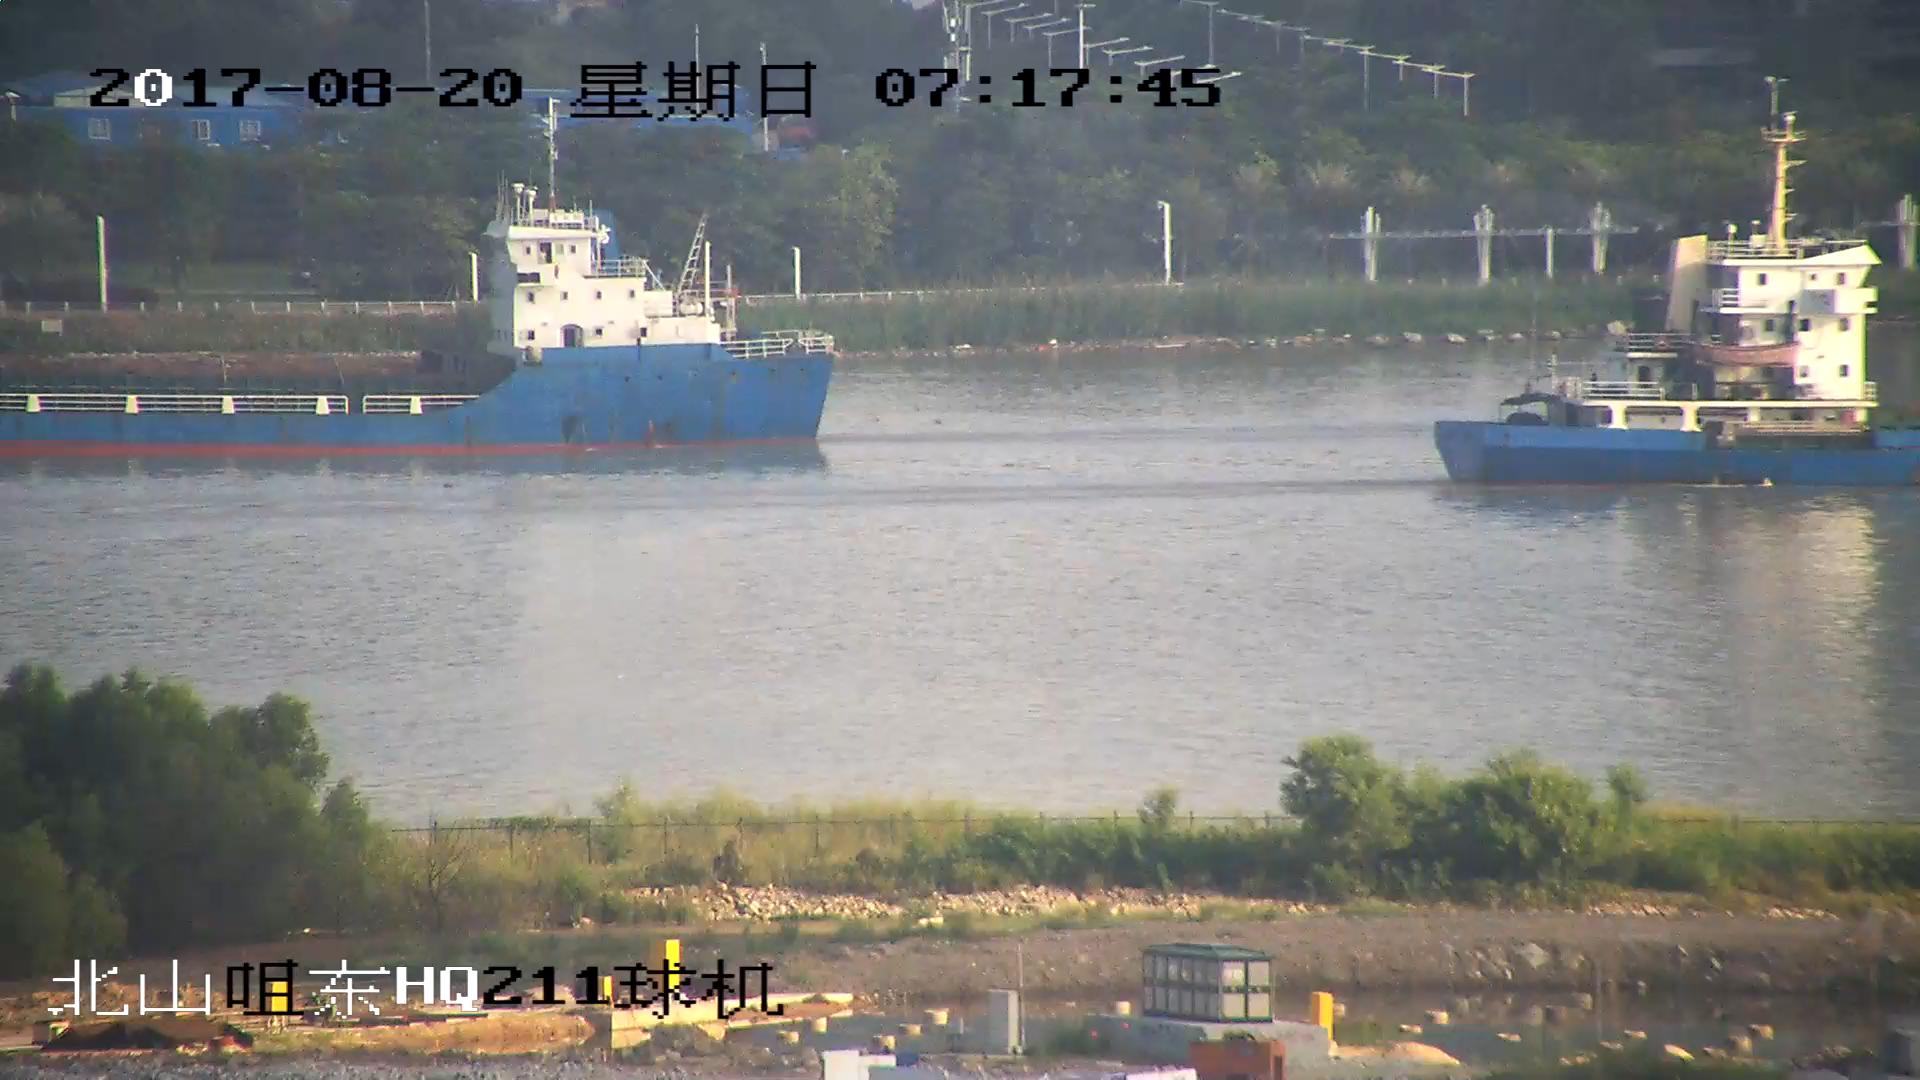general cargo ship: (1, 186, 841, 452), (1425, 166, 1920, 475)
